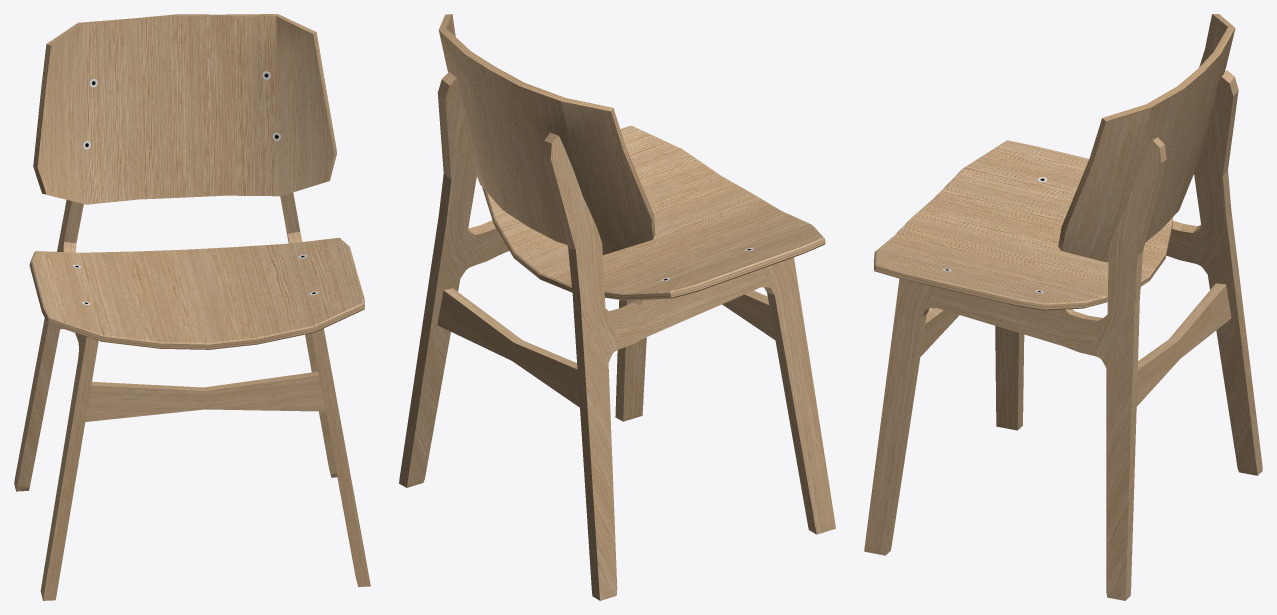
Rendered from chair.glb.
3 renders of one model, left to right at view 1: azimuth 30°, elevation 25°; view 2: azimuth 150°, elevation 25°; view 3: azimuth 270°, elevation 25°, orthographic. The views are drawn at different scales.
Visible parts, largest first — view 1: Plane.001, Plane, ChairSoborgOak, Cube.001; view 2: ChairSoborgOak, Plane, Plane.001, Cube.002, Cube.001; view 3: ChairSoborgOak, Plane, Plane.001, Cube.002, Cube.001.
Part boxes in pixels (x1,y1,x2,y2): Plane.001: [33, 14, 336, 204]; Plane: [29, 237, 364, 349]; ChairSoborgOak: [14, 192, 370, 600]; Cube.001: [85, 371, 325, 421]; ChairSoborgOak: [399, 72, 835, 600]; Plane: [482, 125, 825, 300]; Plane.001: [439, 14, 655, 255]; Cube.002: [437, 288, 579, 407]; Cube.001: [722, 290, 775, 339]; ChairSoborgOak: [864, 70, 1262, 600]; Plane: [874, 140, 1172, 310]; Plane.001: [1058, 14, 1235, 262]; Cube.002: [1136, 283, 1231, 406]; Cube.001: [920, 308, 959, 356].
Size of the model in its own units: 0.6634 by 0.8102 by 0.6232.
3 materials, 1 textured.
